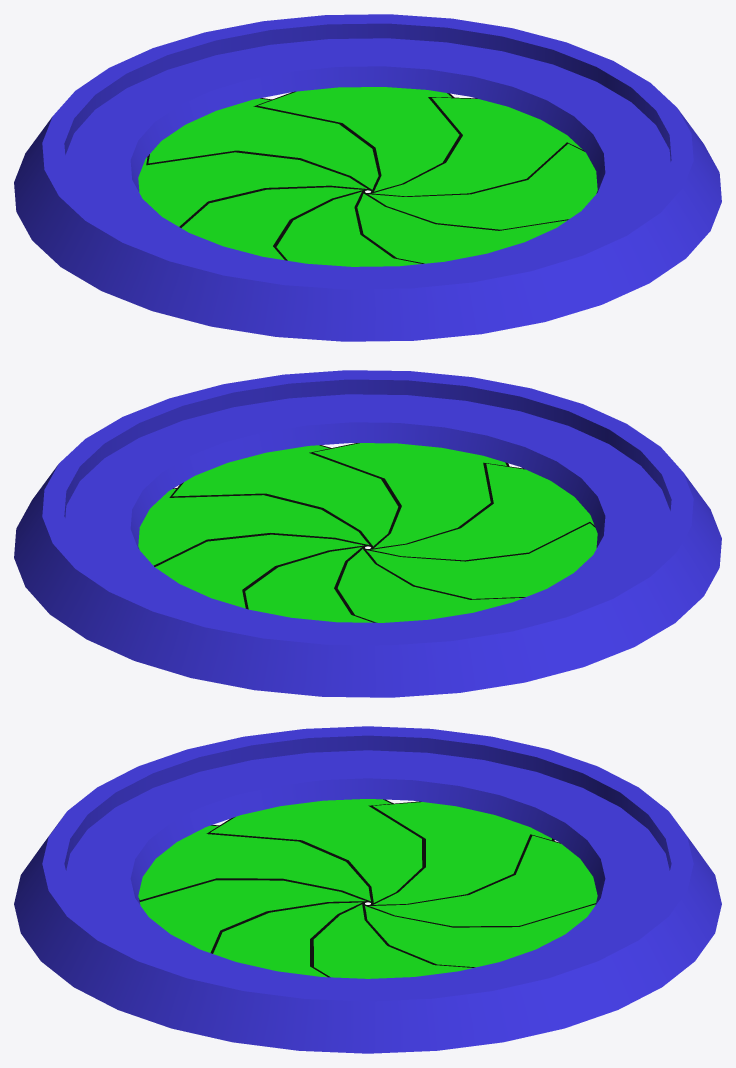
Rendered from aperture.fbx.
The picture shows the model from 3 angles, top to bottom: view 1: azimuth 30°, elevation 25°; view 2: azimuth 150°, elevation 25°; view 3: azimuth 270°, elevation 25°; orthographic projection.
Visible parts, largest first — view 1: Circle, Plane.002, Plane.007, Plane.006, Plane.001, Plane.003, Plane.005, Plane.008, Plane.004; view 2: Circle, Plane.005, Plane.001, Plane.004, Plane.006, Plane.008, Plane.002, Plane.003, Plane.007; view 3: Circle, Plane.008, Plane.003, Plane.004, Plane.007, Plane.005, Plane.002, Plane.001, Plane.006.
Boxes of the visible parts, box(x1,y1,x2,y2) form: Circle: box(14, 14, 721, 341); Plane.002: box(253, 87, 459, 192); Plane.007: box(146, 98, 378, 191); Plane.006: box(368, 97, 582, 196); Plane.001: box(366, 142, 597, 229); Plane.003: box(138, 152, 369, 227); Plane.005: box(357, 192, 568, 263); Plane.008: box(181, 187, 367, 260); Plane.004: box(276, 191, 424, 266); Circle: box(14, 370, 721, 697); Plane.005: box(309, 443, 509, 548); Plane.001: box(169, 445, 398, 547); Plane.004: box(366, 462, 594, 560); Plane.006: box(138, 488, 370, 566); Plane.008: box(365, 522, 597, 598); Plane.002: box(155, 534, 369, 609); Plane.003: box(337, 547, 525, 622); Plane.007: box(245, 546, 376, 622); Circle: box(14, 726, 721, 1053); Plane.008: box(206, 799, 422, 903); Plane.003: box(368, 801, 554, 904); Plane.004: box(138, 825, 371, 902); Plane.007: box(367, 834, 597, 926); Plane.005: box(140, 880, 368, 953); Plane.002: box(364, 903, 595, 967); Plane.001: box(213, 902, 366, 977); Plane.006: box(313, 903, 475, 978).
Bounding box in the file's own units: 436 × 27.53 × 436.
